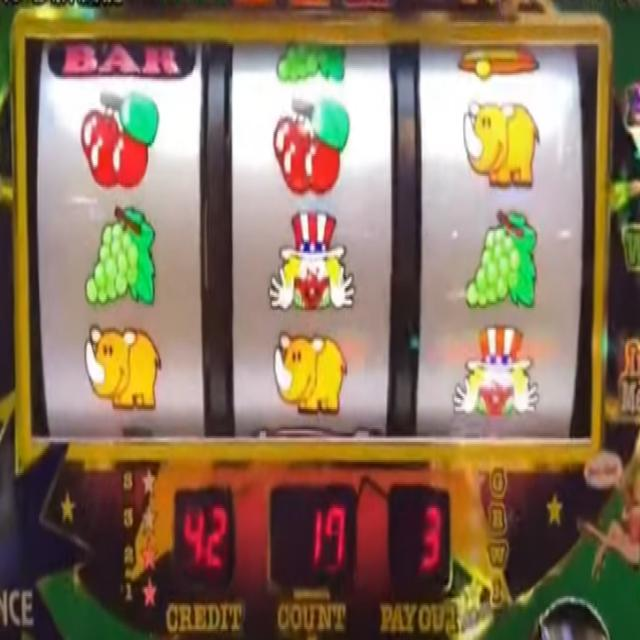bar: (47, 40, 198, 79)
bell: (458, 44, 542, 79)
cherry: (270, 96, 352, 197), (78, 91, 161, 190)
clown: (268, 208, 356, 318), (451, 324, 540, 420)
display: (24, 39, 597, 448)
elephant: (461, 97, 541, 194), (84, 322, 164, 416), (272, 328, 352, 418)
grape: (463, 208, 539, 314), (83, 204, 158, 310), (275, 41, 348, 84)
